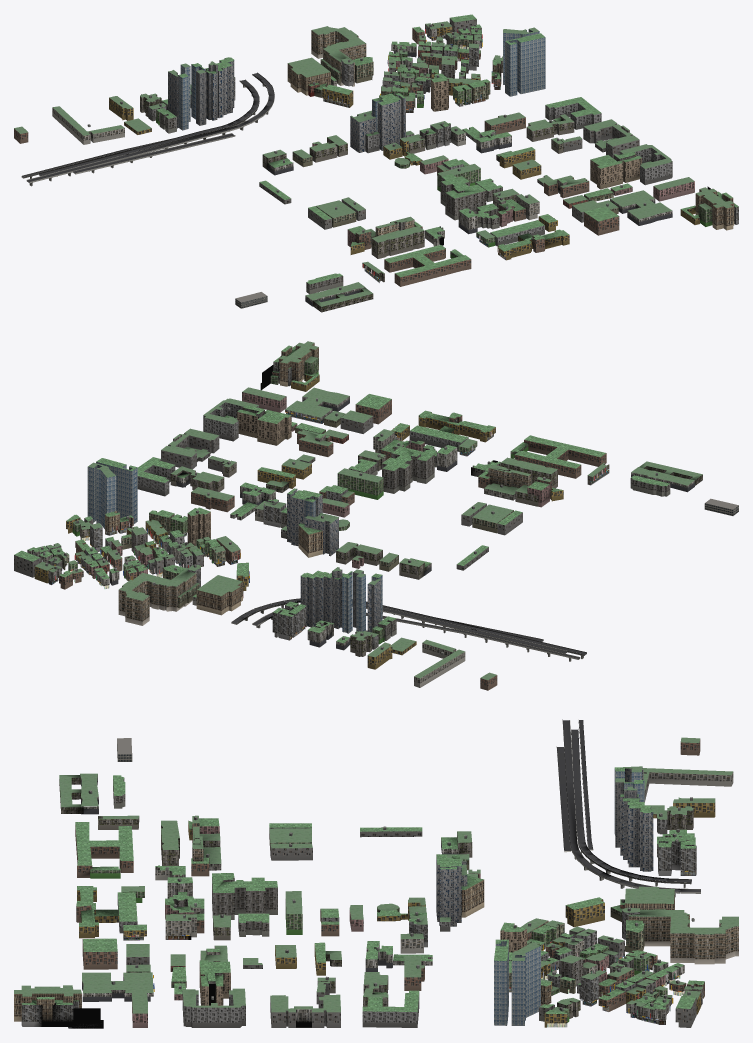
The picture shows the model from 3 angles, top to bottom: view 1: azimuth 30°, elevation 25°; view 2: azimuth 150°, elevation 25°; view 3: azimuth 270°, elevation 25°; orthographic projection. The views are drawn at different scales.
Visible parts, largest first — view 1: buildings_roof_ai_1, buildings_roof_ai_0, buildings_facade_ai_brown_brick_tile, buildings_facade_ai_glass_office_v2, buildings_facade_glass, buildings_facade_ai_old_concrete_balcony, buildings_facade_ai_yellow_tile_apts, buildings_facade_ai_grey, buildings_facade_ai_concrete, buildings_facade_ai_white_tile_apts, bridges_deck, bridges_concrete (+11 smaller); view 2: buildings_roof_ai_1, buildings_roof_ai_0, buildings_facade_ai_brown_brick_tile, buildings_facade_ai_glass_office_v2, buildings_facade_glass, buildings_facade_ai_old_concrete_balcony, buildings_facade_ai_grey_wash, buildings_facade_ai_white_tile_apts, buildings_facade_ai_yellow_tile_apts, buildings_facade_ai_grey, buildings_facade_ai_concrete, buildings_facade_ai_school_corridor (+10 smaller); view 3: buildings_roof_ai_1, buildings_roof_ai_0, bridges_deck, buildings_facade_ai_brown_brick_tile, buildings_facade_ai_grey, buildings_facade_ai_white_tile_apts, buildings_facade_ai_glass_office_v2, buildings_facade_glass, buildings_facade_ai_grey_wash, buildings_facade_ai_yellow_tile_apts, buildings_facade_ai_school_corridor, buildings_facade_ai_concrete (+11 smaller).
Part boxes in pixels (bbox=[...]): buildings_roof_ai_1: bbox=[14, 21, 733, 306]; buildings_roof_ai_0: bbox=[156, 14, 738, 284]; buildings_facade_ai_brown_brick_tile: bbox=[14, 28, 619, 286]; buildings_facade_ai_glass_office_v2: bbox=[168, 58, 405, 152]; buildings_facade_glass: bbox=[178, 29, 545, 131]; buildings_facade_ai_old_concrete_balcony: bbox=[140, 56, 574, 312]; buildings_facade_ai_yellow_tile_apts: bbox=[109, 24, 699, 260]; buildings_facade_ai_grey: bbox=[148, 50, 672, 246]; buildings_facade_ai_concrete: bbox=[159, 64, 635, 294]; buildings_facade_ai_white_tile_apts: bbox=[161, 24, 710, 306]; bridges_deck: bbox=[22, 73, 274, 182]; bridges_concrete: bbox=[21, 72, 274, 186]; buildings_roof_ai_1: bbox=[35, 341, 702, 680]; buildings_roof_ai_0: bbox=[14, 345, 669, 643]; buildings_facade_ai_brown_brick_tile: bbox=[59, 372, 606, 690]; buildings_facade_ai_glass_office_v2: bbox=[287, 489, 381, 632]; buildings_facade_glass: bbox=[87, 462, 382, 633]; buildings_facade_ai_old_concrete_balcony: bbox=[80, 455, 702, 656]; buildings_facade_ai_grey_wash: bbox=[14, 416, 522, 577]; buildings_facade_ai_white_tile_apts: bbox=[27, 365, 694, 650]; buildings_facade_ai_yellow_tile_apts: bbox=[34, 374, 563, 669]; buildings_facade_ai_grey: bbox=[85, 366, 468, 649]; buildings_facade_ai_concrete: bbox=[84, 408, 670, 640]; buildings_facade_ai_school_corridor: bbox=[118, 468, 530, 625]; buildings_roof_ai_1: bbox=[14, 737, 738, 1013]; buildings_roof_ai_0: bbox=[21, 767, 704, 1013]; bridges_deck: bbox=[557, 720, 700, 892]; buildings_facade_ai_brown_brick_tile: bbox=[75, 739, 704, 1011]; buildings_facade_ai_grey: bbox=[73, 817, 667, 1027]; buildings_facade_ai_white_tile_apts: bbox=[68, 775, 703, 1028]; buildings_facade_ai_glass_office_v2: bbox=[436, 767, 653, 926]; buildings_facade_glass: bbox=[494, 769, 644, 1025]; buildings_facade_ai_grey_wash: bbox=[126, 827, 696, 1027]; buildings_facade_ai_yellow_tile_apts: bbox=[77, 802, 715, 1027]; buildings_facade_ai_school_corridor: bbox=[192, 838, 738, 964]; buildings_facade_ai_concrete: bbox=[113, 778, 657, 1021].
Size of the model in its own units: 759 by 86.5 by 769.
Materials: 36 (33 with a texture image).
